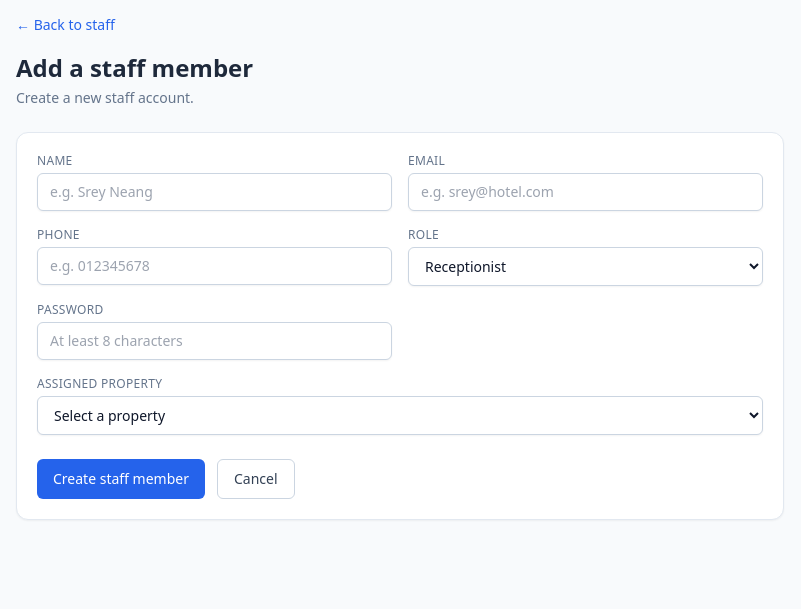
Staff form page › validates email format and password length
Type "Srey Neang" into the field labelled "Name" at (214, 192), box 37,173 -> 392,211
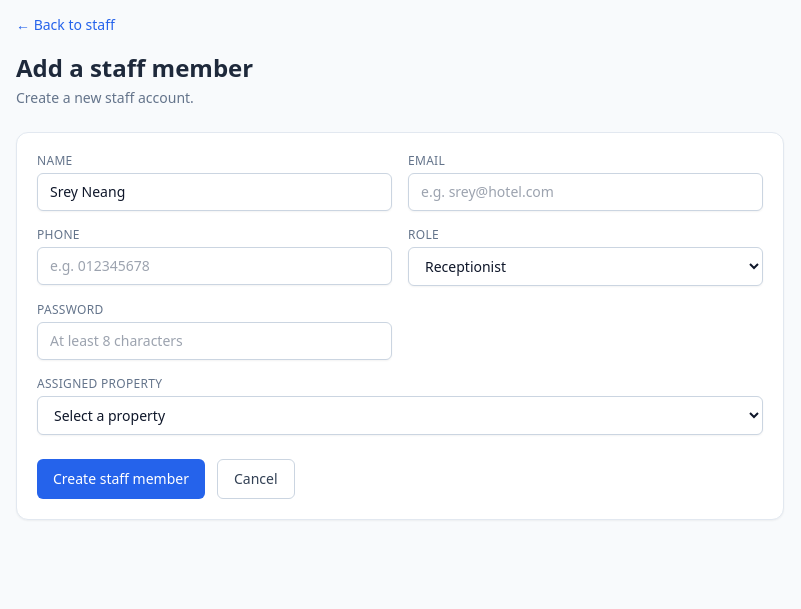
Type "not-an-email" into the field labelled "Email" at (586, 192), box 408,173 -> 763,211
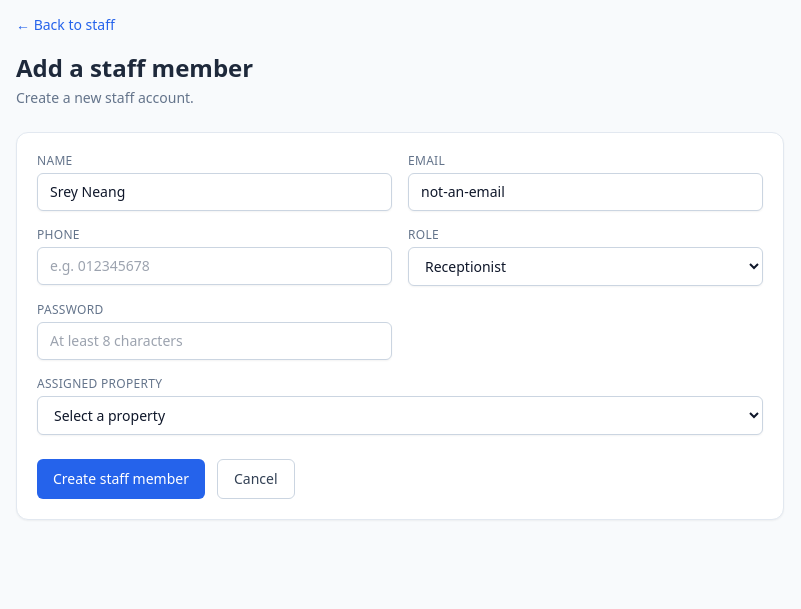
Type "short" into the password field labelled "Password" at (214, 341), box 37,322 -> 392,360
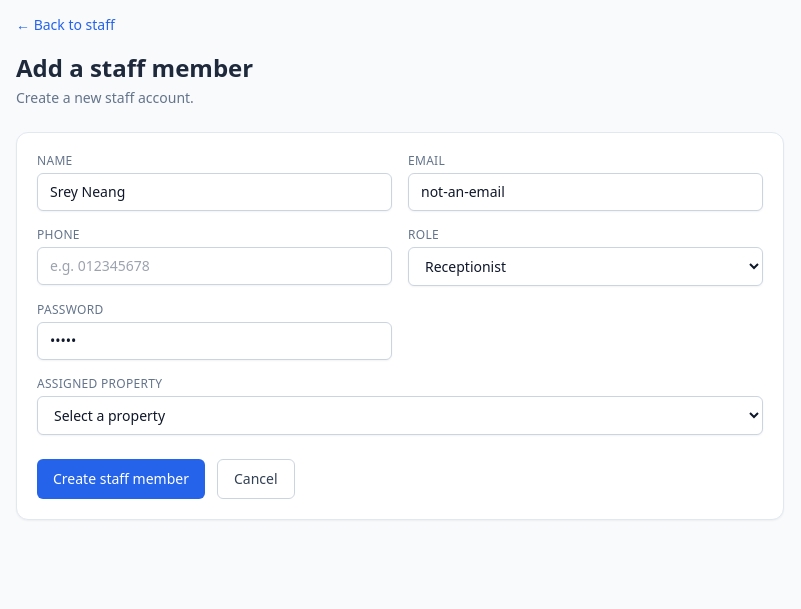
Click the button "Create staff member" at (121, 479), box 37,459 -> 205,499
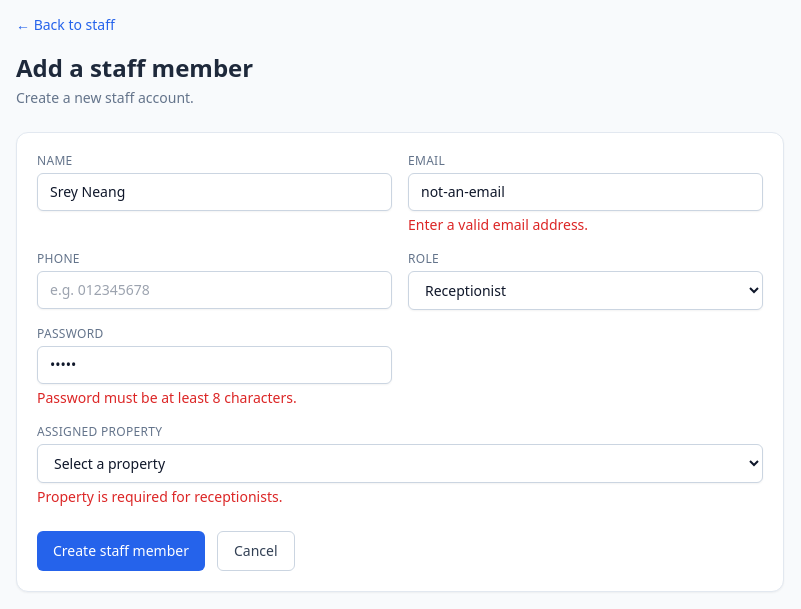
Now the text "Enter a valid email address." is shown, box 408,215 -> 588,234
Now the text "Password must be at least 8 characters." is shown, box 37,388 -> 297,407
